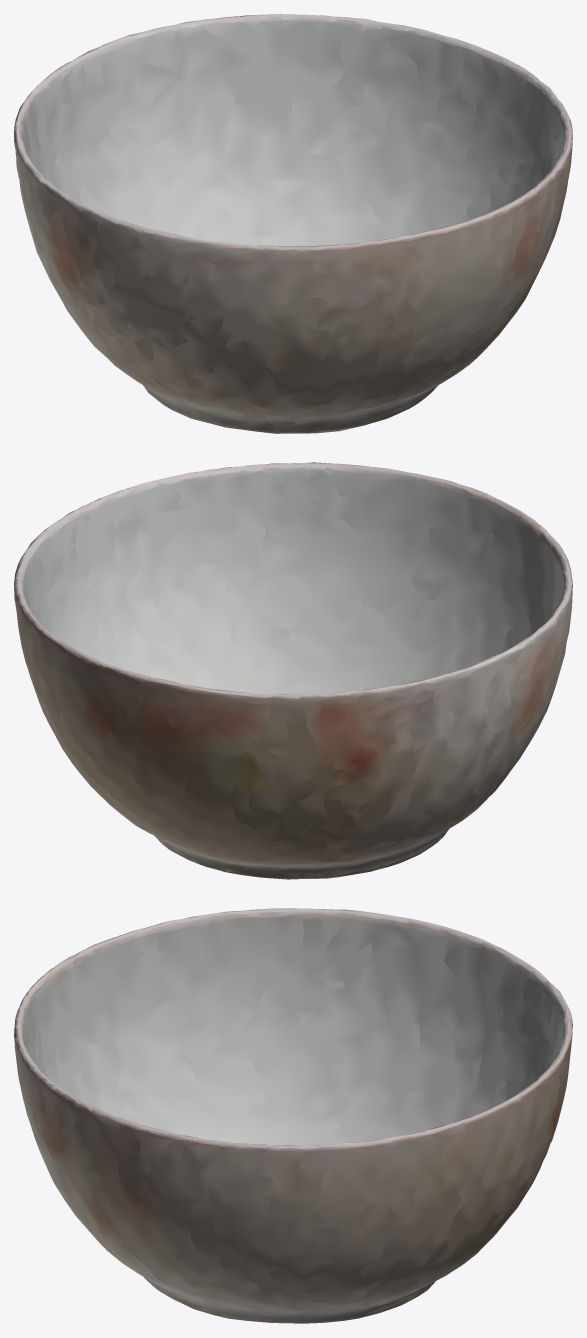
File: 0010_mask_011_white_bowl.glb
3 renders of one model, top to bottom at view 1: azimuth 30°, elevation 25°; view 2: azimuth 150°, elevation 25°; view 3: azimuth 270°, elevation 25°, orthographic.
Parts seen in each view (by area): view 1: mask_011_object; view 2: mask_011_object; view 3: mask_011_object.
Boxes of the visible parts, x1,y1,x2,y2 form: mask_011_object: [14, 14, 572, 433]; mask_011_object: [14, 462, 572, 879]; mask_011_object: [14, 908, 572, 1323].
Bounding box in the file's own units: 0.2479 × 0.1179 × 0.2482.
